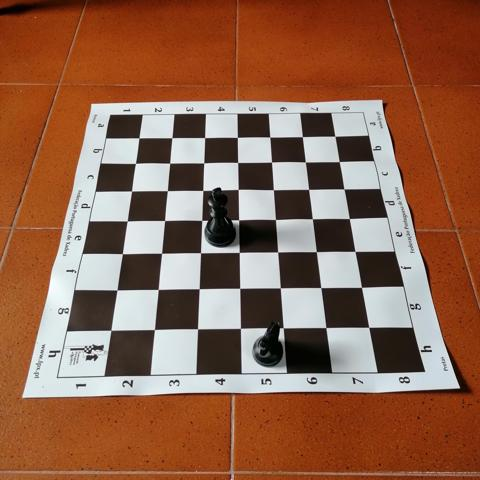xcorner: (197, 129, 213, 145), (297, 153, 313, 169), (336, 180, 352, 196), (230, 181, 246, 197), (153, 245, 169, 261), (294, 128, 310, 143), (331, 153, 347, 168), (196, 154, 211, 170), (162, 155, 178, 170), (125, 182, 140, 198), (342, 210, 357, 226), (231, 211, 246, 227), (348, 243, 363, 259), (231, 244, 246, 260), (192, 245, 208, 260), (314, 280, 329, 296), (191, 281, 206, 297), (362, 321, 378, 336), (276, 321, 291, 337), (327, 128, 342, 143), (262, 129, 277, 144), (230, 129, 245, 144), (165, 130, 180, 145), (133, 130, 148, 145), (264, 154, 279, 169), (230, 154, 245, 169), (129, 155, 144, 170), (301, 181, 316, 196), (266, 181, 281, 196), (195, 182, 210, 197), (160, 182, 175, 197), (305, 211, 320, 226), (268, 211, 283, 226), (194, 212, 209, 227), (157, 212, 172, 227), (120, 213, 135, 228), (309, 244, 324, 259), (270, 244, 285, 259), (115, 246, 130, 261), (355, 280, 370, 295), (273, 281, 288, 296), (232, 281, 247, 296), (150, 282, 165, 297), (109, 282, 124, 297), (319, 321, 334, 336), (232, 322, 247, 337), (189, 322, 204, 337), (146, 323, 161, 338), (103, 323, 118, 338)
